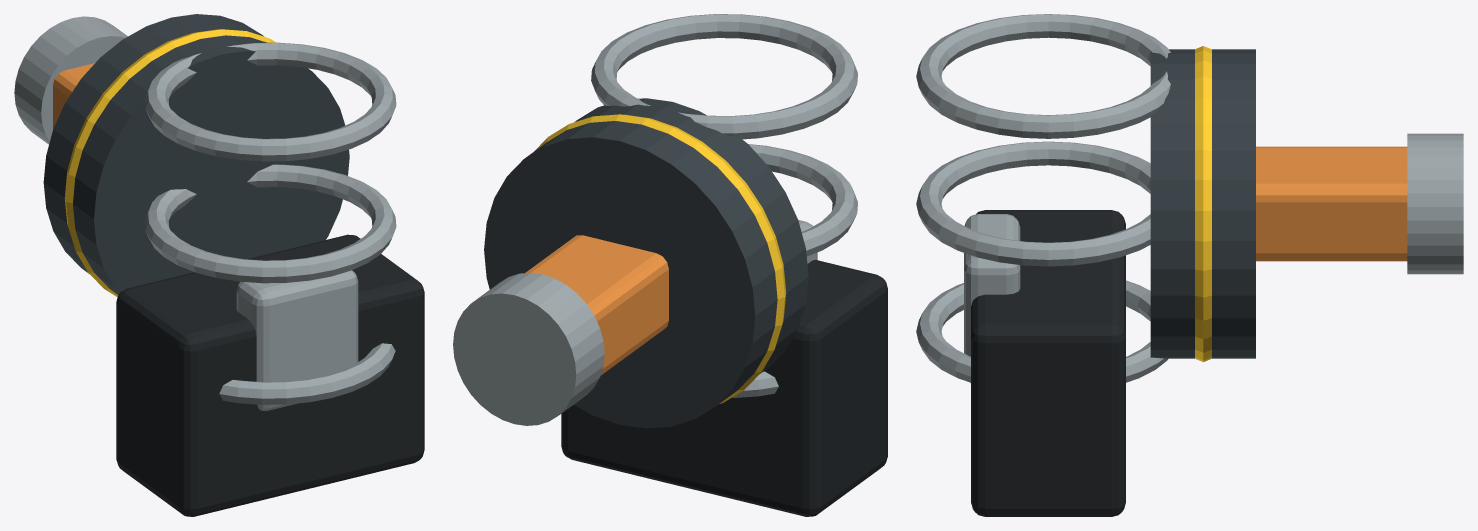
File: zipline_variant_c.glb
The picture shows the model from 3 angles, left to right: view 1: azimuth 30°, elevation 25°; view 2: azimuth 150°, elevation 25°; view 3: azimuth 270°, elevation 25°; orthographic projection. The views are drawn at different scales.
Parts seen in each view (by area): view 1: Grip handle, Cable spool, Service ring, Trigger guard, Service ring.002, Attachment eye, Service ring.001, Spool rim, Cable guide; view 2: Cable spool, Grip handle, Attachment eye, Service ring, Cable guide, Service ring.002, Spool rim, Service ring.001; view 3: Grip handle, Cable spool, Cable guide, Service ring, Service ring.002, Attachment eye, Spool rim, Service ring.001, Trigger guard.
Part boxes in pixels (bbox=[...]): Grip handle: bbox=[116, 234, 424, 516]; Cable spool: bbox=[43, 14, 349, 294]; Service ring: bbox=[144, 42, 396, 161]; Trigger guard: bbox=[236, 270, 358, 411]; Service ring.002: bbox=[144, 164, 396, 283]; Attachment eye: bbox=[14, 16, 127, 144]; Service ring.001: bbox=[219, 343, 395, 404]; Spool rim: bbox=[64, 29, 275, 296]; Cable guide: bbox=[53, 63, 94, 129]; Cable spool: bbox=[484, 98, 808, 428]; Grip handle: bbox=[561, 260, 887, 516]; Attachment eye: bbox=[453, 272, 604, 425]; Service ring: bbox=[591, 14, 857, 139]; Cable guide: bbox=[525, 235, 668, 375]; Service ring.002: bbox=[748, 144, 857, 256]; Spool rim: bbox=[534, 114, 786, 403]; Service ring.001: bbox=[732, 371, 778, 397]; Grip handle: bbox=[971, 210, 1125, 516]; Cable spool: bbox=[1150, 49, 1255, 358]; Cable guide: bbox=[1256, 146, 1407, 261]; Service ring: bbox=[916, 14, 1170, 138]; Service ring.002: bbox=[916, 141, 1150, 266]; Attachment eye: bbox=[1407, 133, 1463, 274]; Spool rim: bbox=[1195, 46, 1211, 362]; Service ring.001: bbox=[916, 280, 1168, 382]; Trigger guard: bbox=[964, 214, 1020, 382].
Size of what is drawn, in the model's own units: 0.45 by 0.625 by 0.778.
